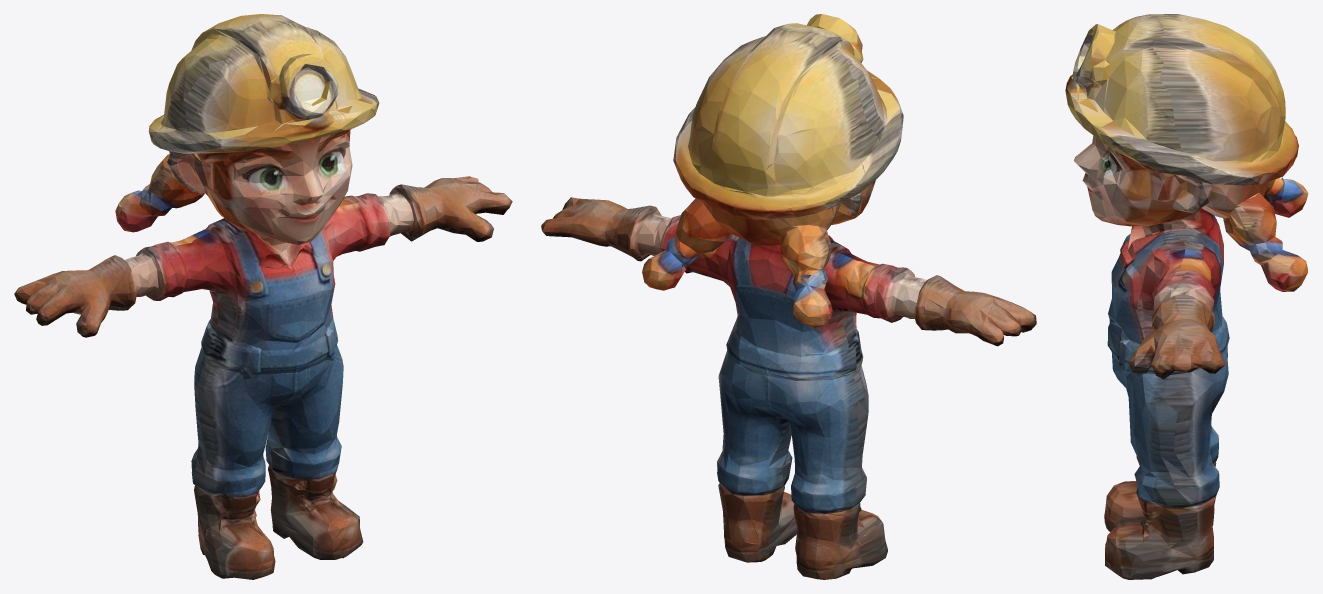
Rendered from v_hela.glb.
The picture shows the model from 3 angles, left to right: view 1: azimuth 30°, elevation 25°; view 2: azimuth 150°, elevation 25°; view 3: azimuth 270°, elevation 25°; orthographic projection.
Parts seen in each view (by area): view 1: geometry_0; view 2: geometry_0; view 3: geometry_0.
Part boxes in pixels (x1,y1,x2,y2): geometry_0: [14, 14, 512, 579]; geometry_0: [541, 14, 1036, 579]; geometry_0: [1065, 14, 1308, 579].
Size of the model in its own units: 0.9484 by 1 by 0.4195.
1 material, 1 textured.
